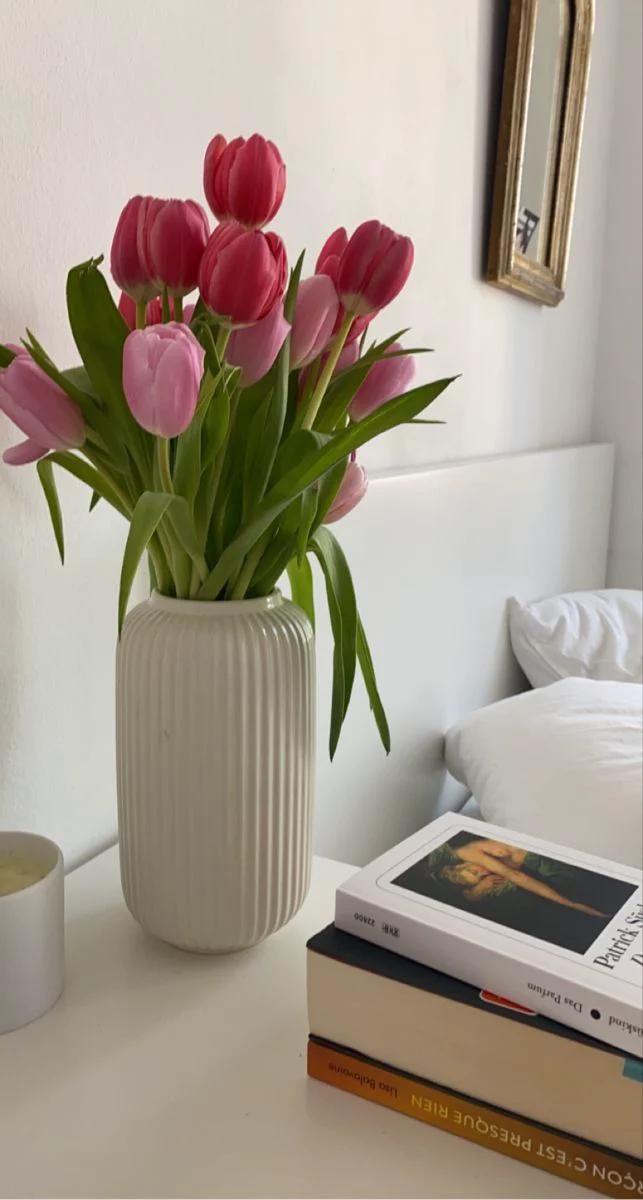tulip: (0, 338, 90, 467), (117, 318, 208, 442), (195, 214, 290, 331), (200, 130, 293, 229), (335, 216, 417, 325), (141, 192, 211, 299), (276, 270, 344, 378), (343, 339, 419, 430), (224, 297, 294, 395), (108, 193, 158, 304), (312, 459, 370, 527)
